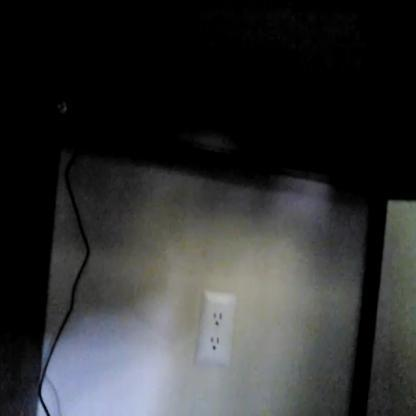OUTLET: (193, 291, 235, 365)
